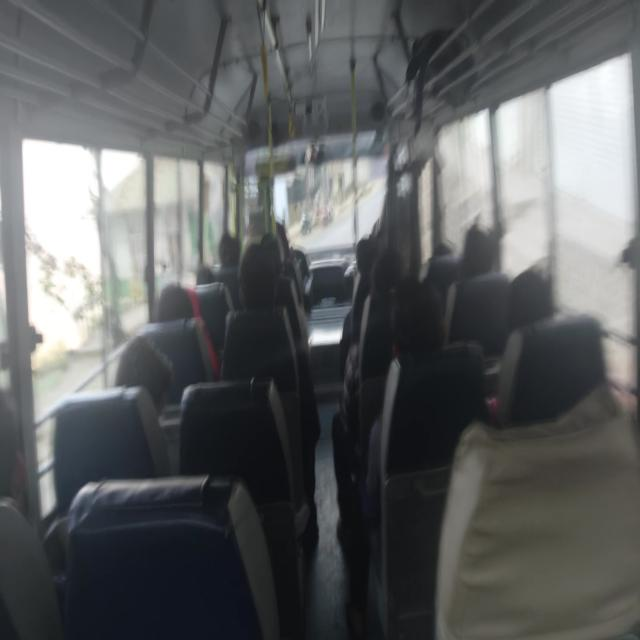person: (0, 391, 30, 508), (393, 271, 440, 343), (511, 267, 565, 323), (119, 336, 169, 394), (244, 244, 280, 320), (461, 220, 505, 280), (159, 272, 198, 320), (262, 233, 292, 275), (372, 243, 402, 283), (218, 221, 242, 265), (348, 230, 377, 266), (384, 171, 408, 214), (258, 168, 279, 216), (194, 256, 217, 292), (430, 227, 452, 261)
